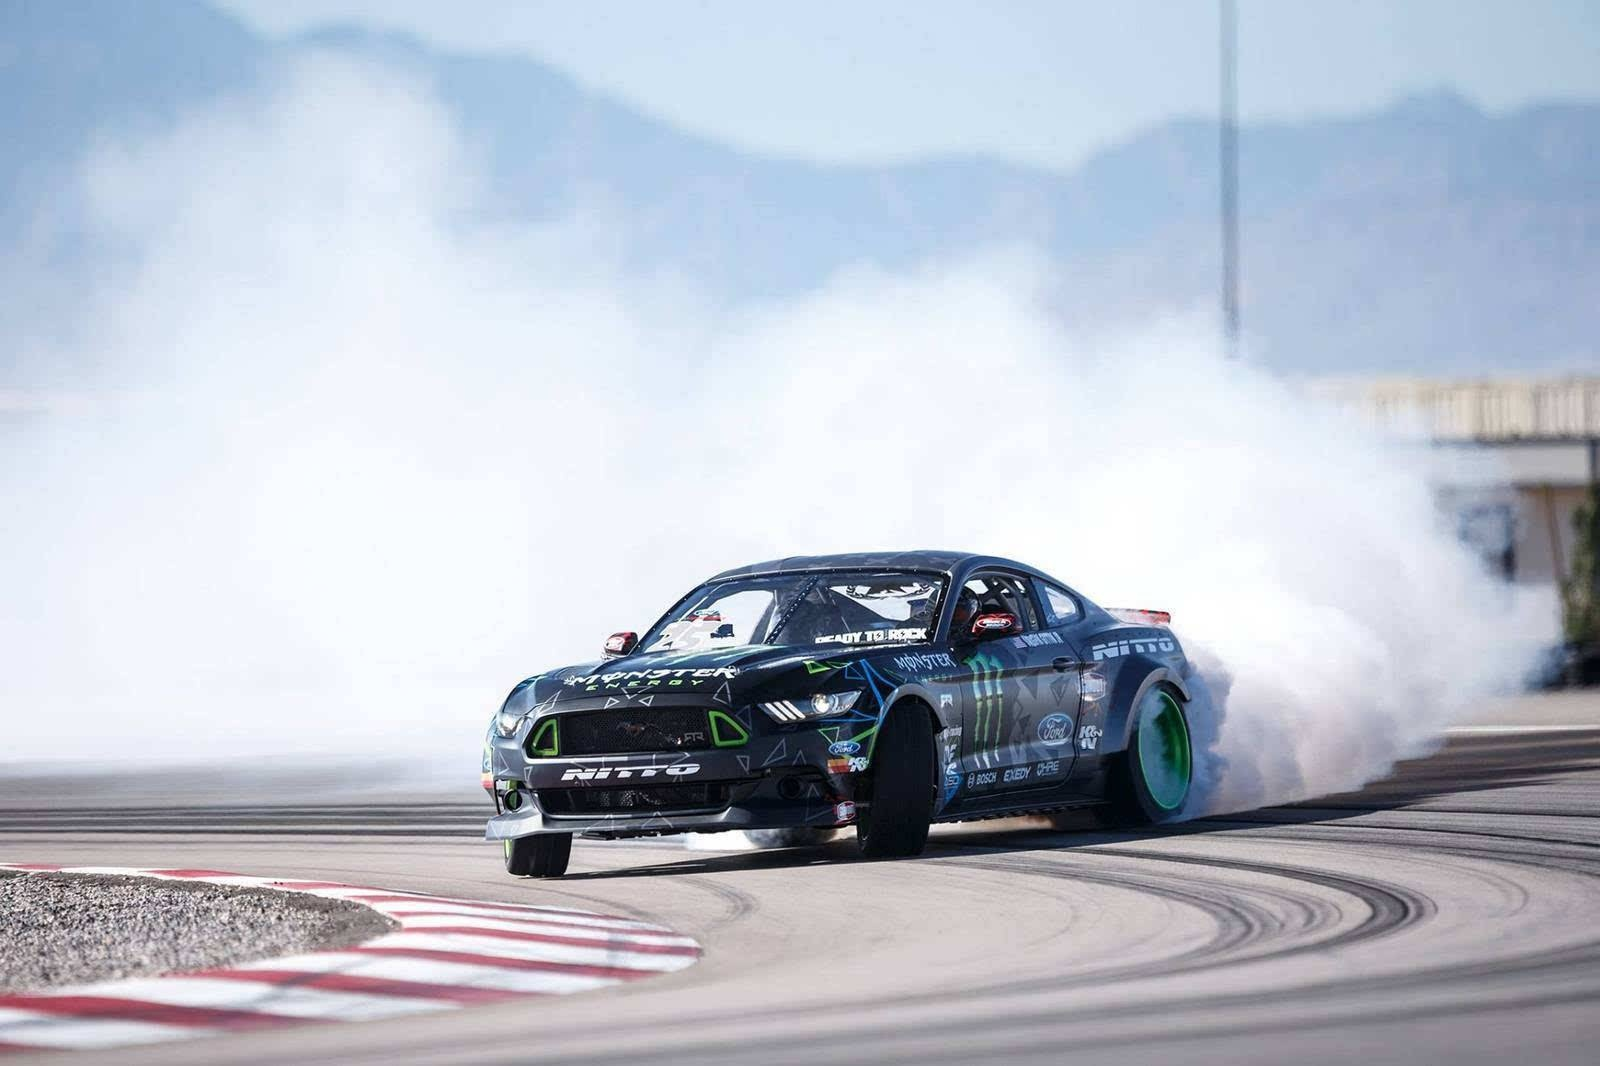racing car: (462, 484, 1236, 869)
